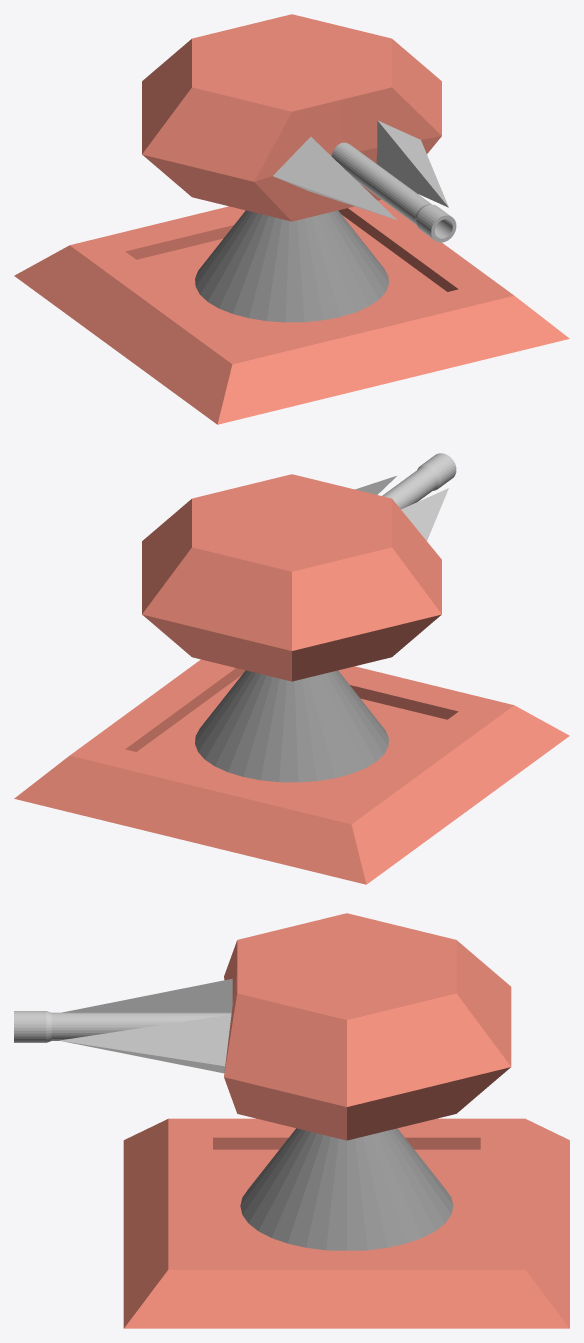
File: EnemyTurret.glb
3 views of the same model, one above another, from view 1: azimuth 30°, elevation 25°; view 2: azimuth 150°, elevation 25°; view 3: azimuth 270°, elevation 25° (orthographic). The views are drawn at different scales.
Parts seen in each view (by area): view 1: Base, Turret_Head, Pillar, Turret_Barrel; view 2: Base, Turret_Head, Pillar, Turret_Barrel; view 3: Base, Turret_Head, Pillar, Turret_Barrel.
Boxes of the visible parts, box(x1,y1,x2,y2) form: Base: box(14, 200, 569, 424); Turret_Head: box(142, 14, 448, 221); Pillar: box(195, 210, 388, 322); Turret_Barrel: box(331, 142, 456, 242); Base: box(14, 659, 569, 884); Turret_Head: box(142, 474, 448, 681); Pillar: box(195, 670, 388, 782); Turret_Barrel: box(382, 453, 456, 509); Base: box(123, 1118, 569, 1328); Turret_Head: box(59, 913, 511, 1140); Pillar: box(240, 1128, 453, 1250); Turret_Barrel: box(14, 1011, 231, 1042).
Size of the model in its own units: 0.5 by 0.3312 by 0.623.
